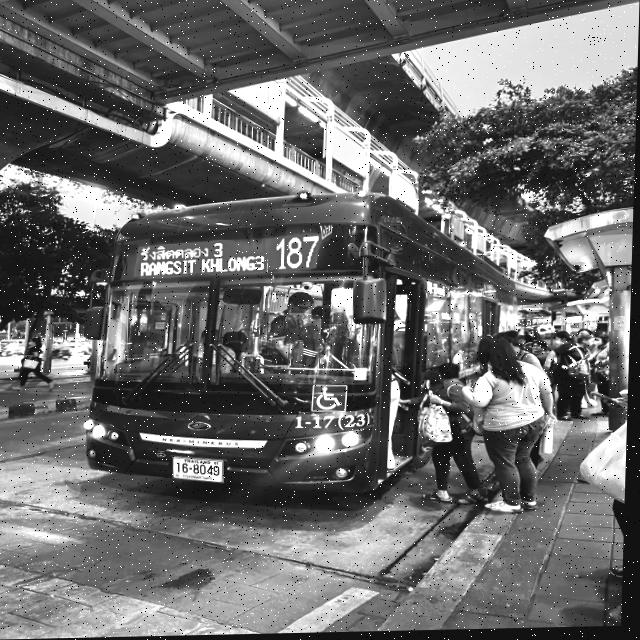Bus-Line-Number: (273, 233, 327, 275)
Destination-Sign-Normal: (131, 239, 270, 277)
TSB-Bus: (69, 183, 532, 510)
